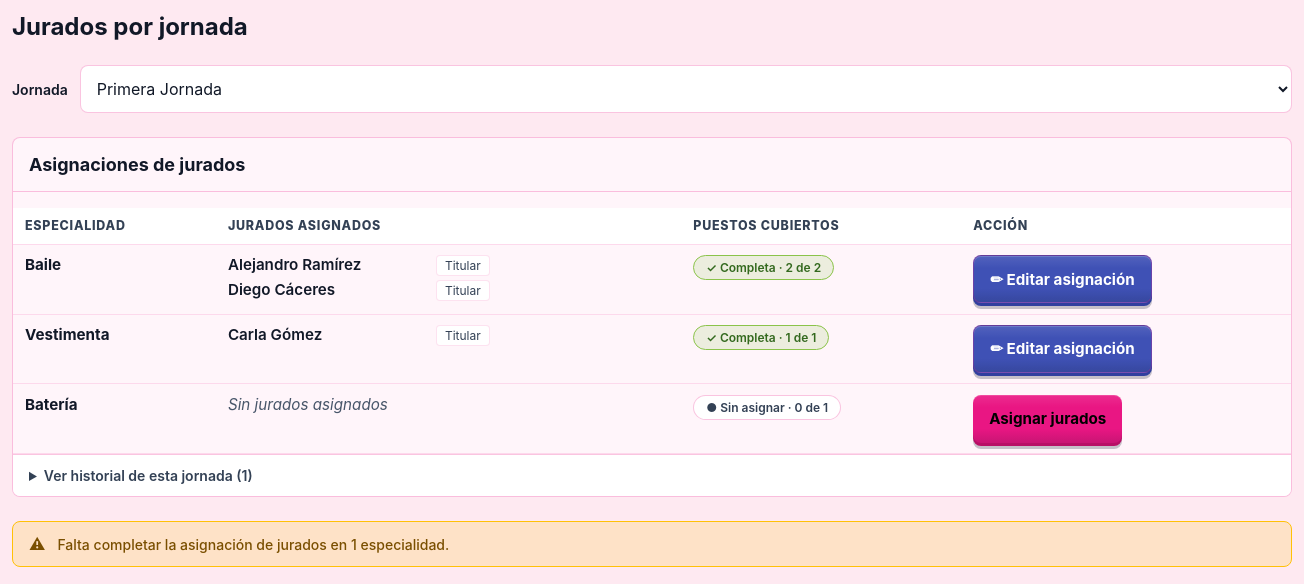
JuradosPorJornadaSection — Rediseño Paso 2 › cambiar de jornada actualiza las asignaciones sin mostrar datos de la anterior
This screenshot has width=1304, height=584.
expect the text "Baile" is shown: met, box [25,255,61,274]
Select "Segunda Jornada" in the dropdown named "Seleccionar jornada" at (686, 89), box [80,65,1292,113]
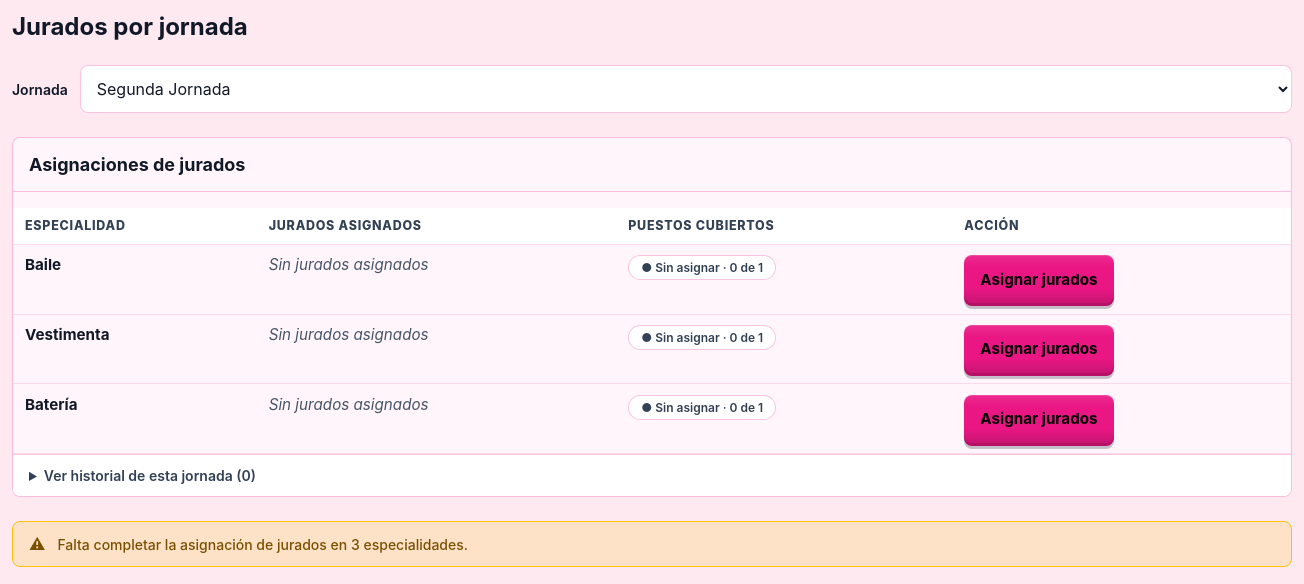
expect the text "● Sin asignar · 0 de 1" in the row of "Baile" is shown: met, box [655,260,763,275]
